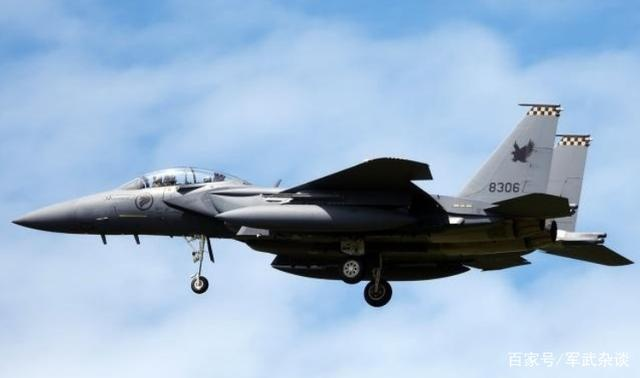airplane: (9, 100, 640, 308)
